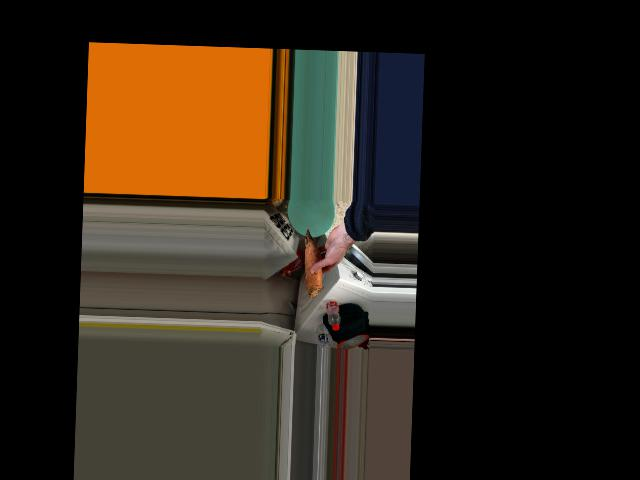sweet_potato: (305, 233, 326, 300)
